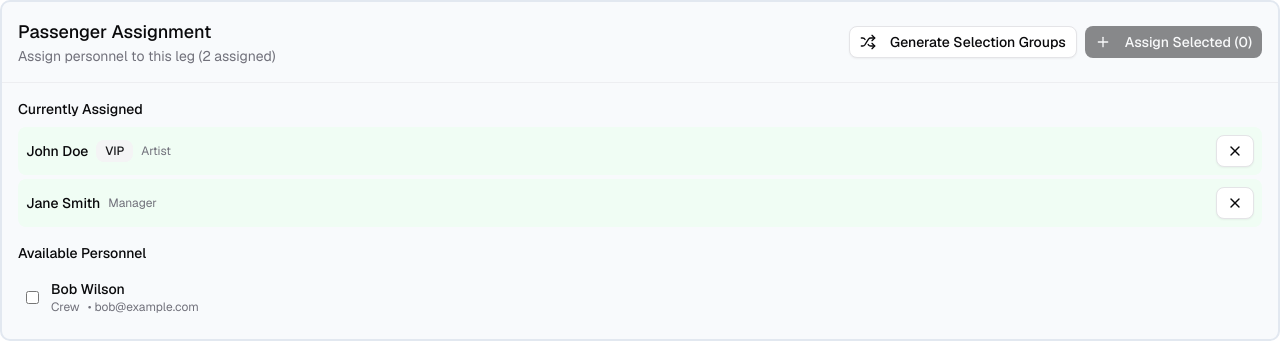
Test: PassengerAssignment - Generate Selection Groups › should disable button while generating
The width and height of the screenshot is (1280, 358).
Click the button "Generate Selection Groups" at (963, 42), box [849,26,1077,58]
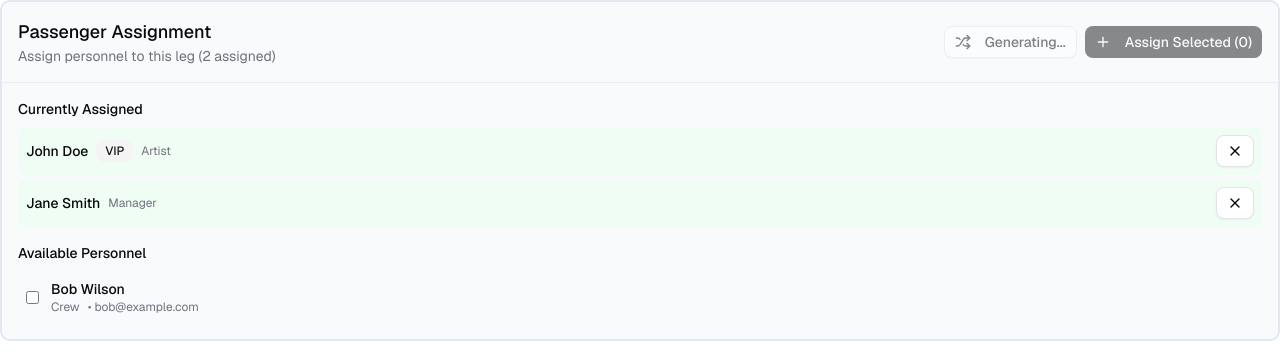
Check: the button "Generating..." is disabled, box [944,26,1077,58]
